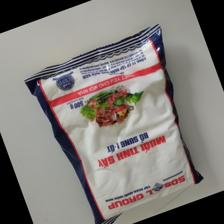Salt: (23, 25, 205, 224)
